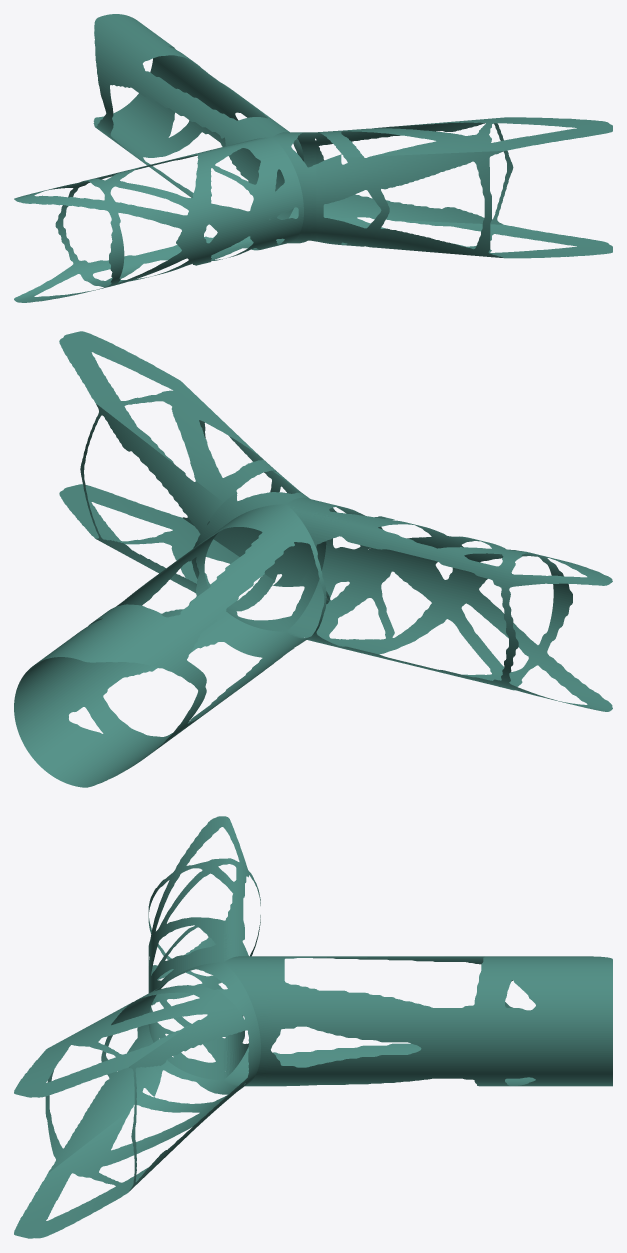
Rendered from tee-smoothed.glb.
3 renders of one model, top to bottom at view 1: azimuth 30°, elevation 25°; view 2: azimuth 150°, elevation 25°; view 3: azimuth 270°, elevation 25°, orthographic. The views are drawn at different scales.
Parts seen in each view (by area): view 1: world; view 2: world; view 3: world.
Part boxes in pixels (x1,y1,x2,y2): world: (14, 14, 612, 302); world: (14, 331, 612, 787); world: (14, 816, 612, 1238).
Bounding box in the file's own units: 80.14 × 18 × 69.22.
